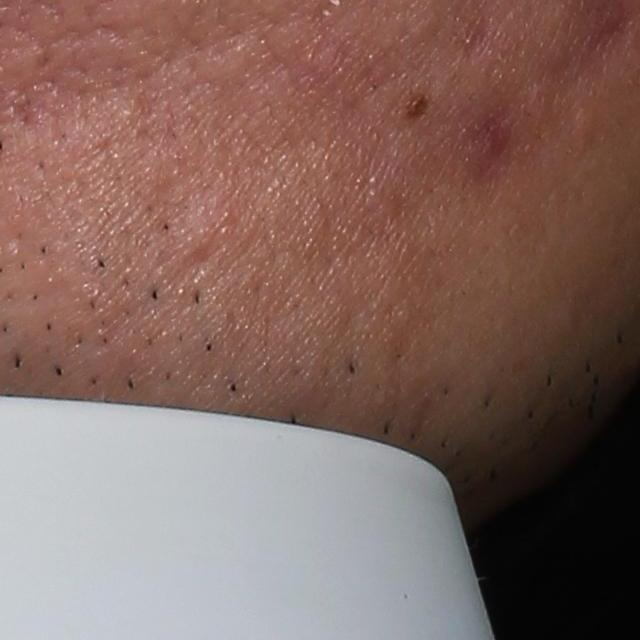nevus: (399, 90, 431, 125)
